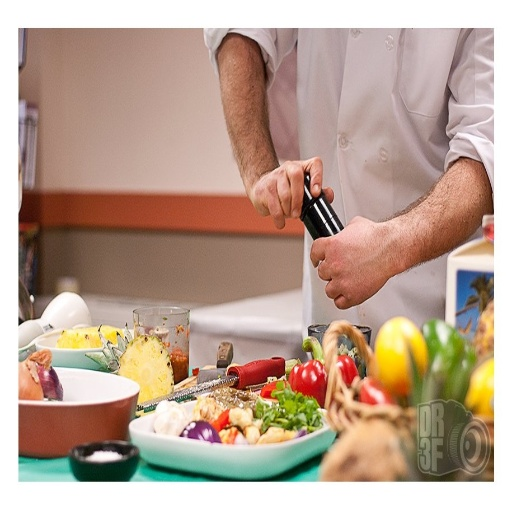hand: (309, 212, 399, 309), (251, 144, 336, 222)
